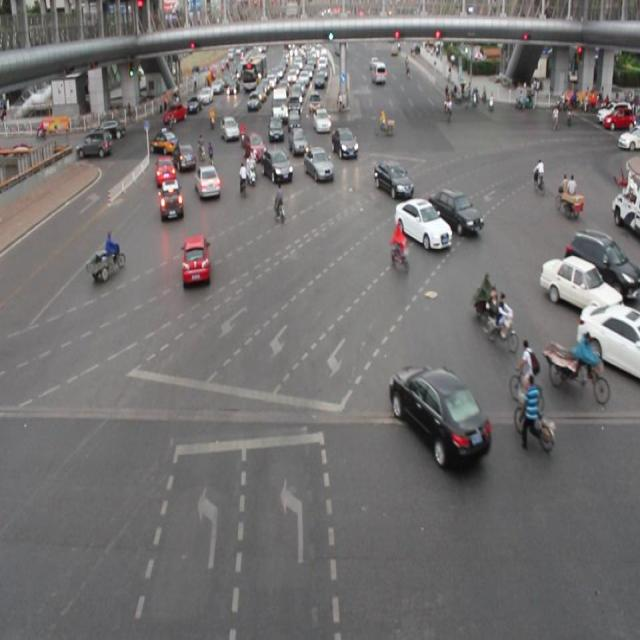car: (388, 361, 488, 473), (564, 227, 640, 298), (540, 257, 622, 311), (580, 303, 640, 370), (393, 198, 451, 248), (429, 190, 482, 240), (181, 234, 213, 286), (372, 158, 411, 200), (260, 146, 293, 183), (303, 144, 333, 183), (158, 180, 185, 223), (194, 164, 221, 200), (332, 126, 359, 160), (243, 129, 266, 164), (174, 144, 197, 172), (156, 156, 176, 188), (287, 129, 309, 157)
